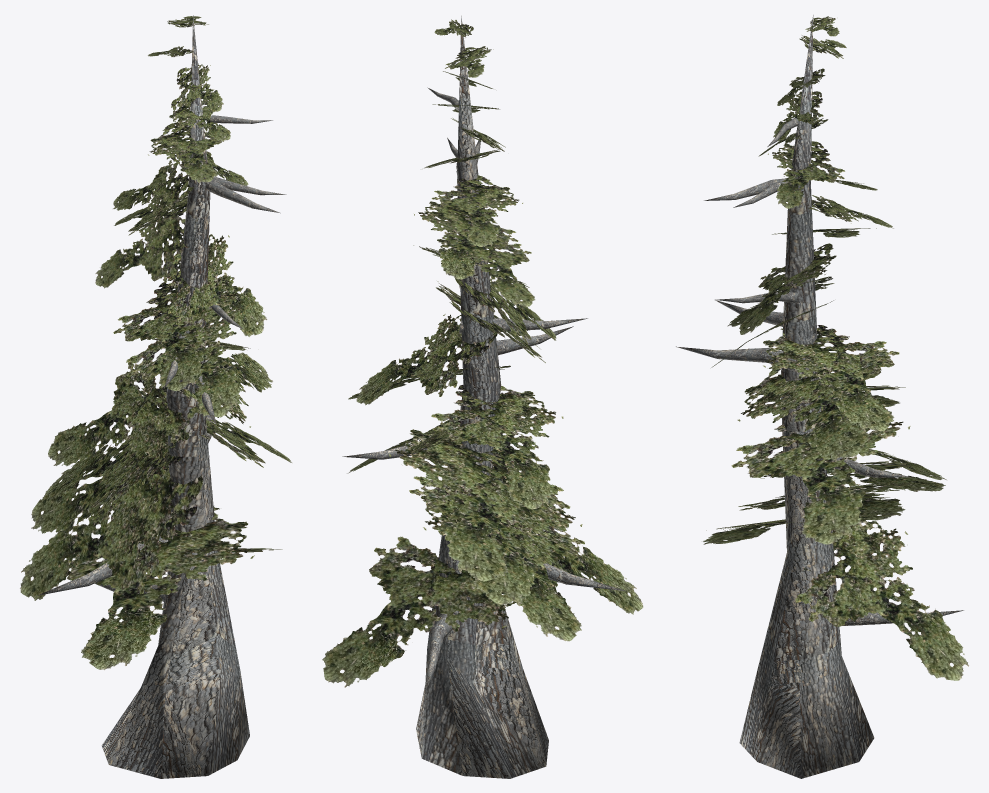
File: PineTreeLeavesThin.fbx
The picture shows the model from 3 angles, left to right: view 1: azimuth 30°, elevation 25°; view 2: azimuth 150°, elevation 25°; view 3: azimuth 270°, elevation 25°; orthographic projection.
Visible parts, largest first — view 1: Plane.003, Cube.002, Branch.001; view 2: Plane.003, Cube.002, Branch.001; view 3: Plane.003, Cube.002, Branch.001.
Part boxes in pixels (left/top/right/bottom): Plane.003: left=20, top=16, right=291, bottom=670; Cube.002: left=101, top=15, right=249, bottom=778; Branch.001: left=36, top=115, right=286, bottom=601; Plane.003: left=322, top=19, right=643, bottom=687; Cube.002: left=416, top=15, right=548, bottom=778; Branch.001: left=342, top=87, right=626, bottom=687; Plane.003: left=703, top=16, right=968, bottom=680; Cube.002: left=739, top=15, right=874, bottom=778; Branch.001: left=676, top=118, right=963, bottom=625.
Bounding box in the file's own units: 410 × 1075 × 395.
